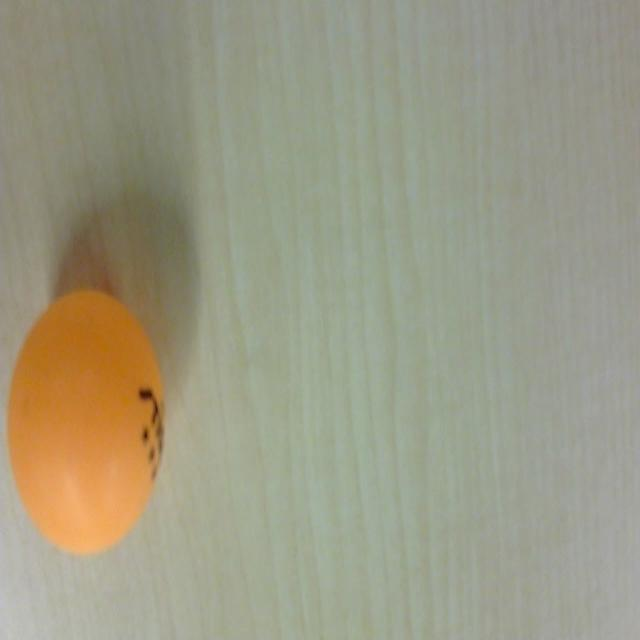ball: (9, 286, 168, 561)
